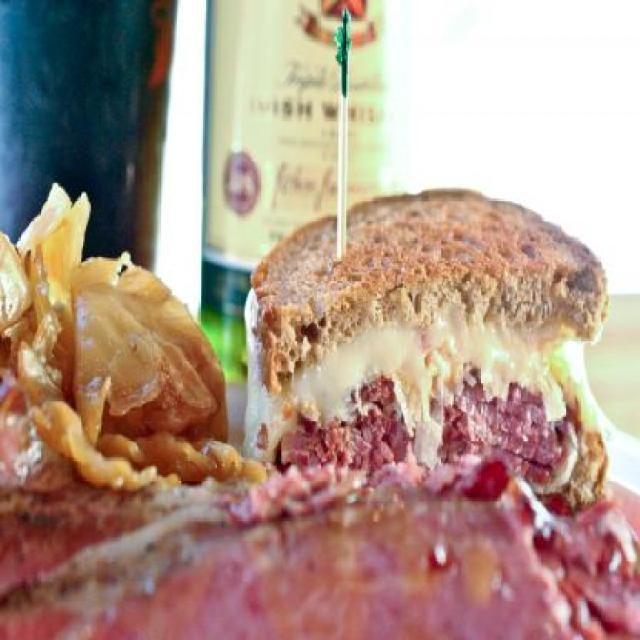Sandwich: (250, 184, 610, 502)
